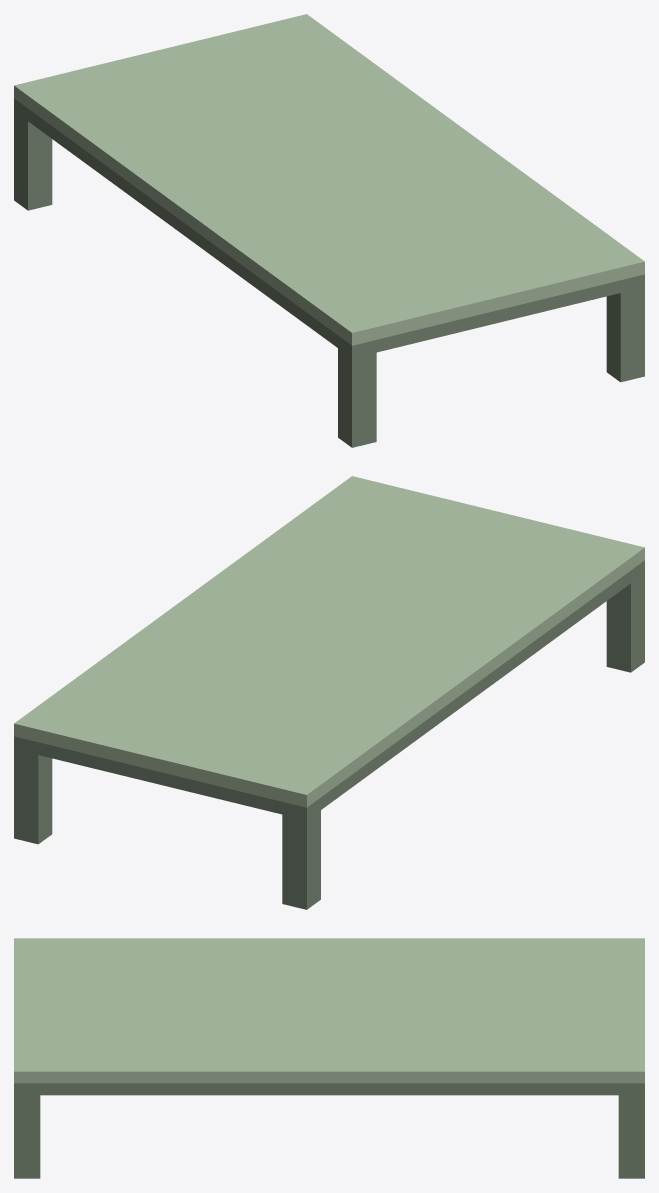
Rendered from mesa_consejo_01.glb.
The picture shows the model from 3 angles, top to bottom: view 1: azimuth 30°, elevation 25°; view 2: azimuth 150°, elevation 25°; view 3: azimuth 270°, elevation 25°; orthographic projection. The views are drawn at different scales.
Parts seen in each view (by area): view 1: mesa_consejo; view 2: mesa_consejo; view 3: mesa_consejo.
Boxes of the visible parts, x1,y1,x2,y2 form: mesa_consejo: (14, 14, 644, 447); mesa_consejo: (14, 476, 644, 909); mesa_consejo: (14, 938, 644, 1178).
Size of the model in its own units: 2 by 0.75 by 4.
